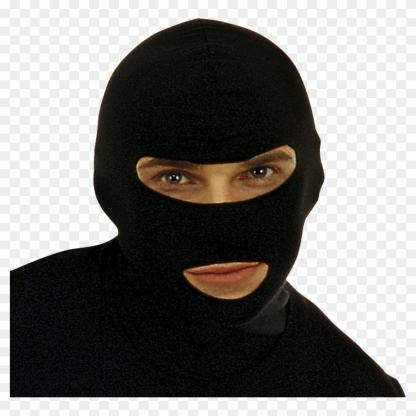criminal: (10, 17, 407, 397)
